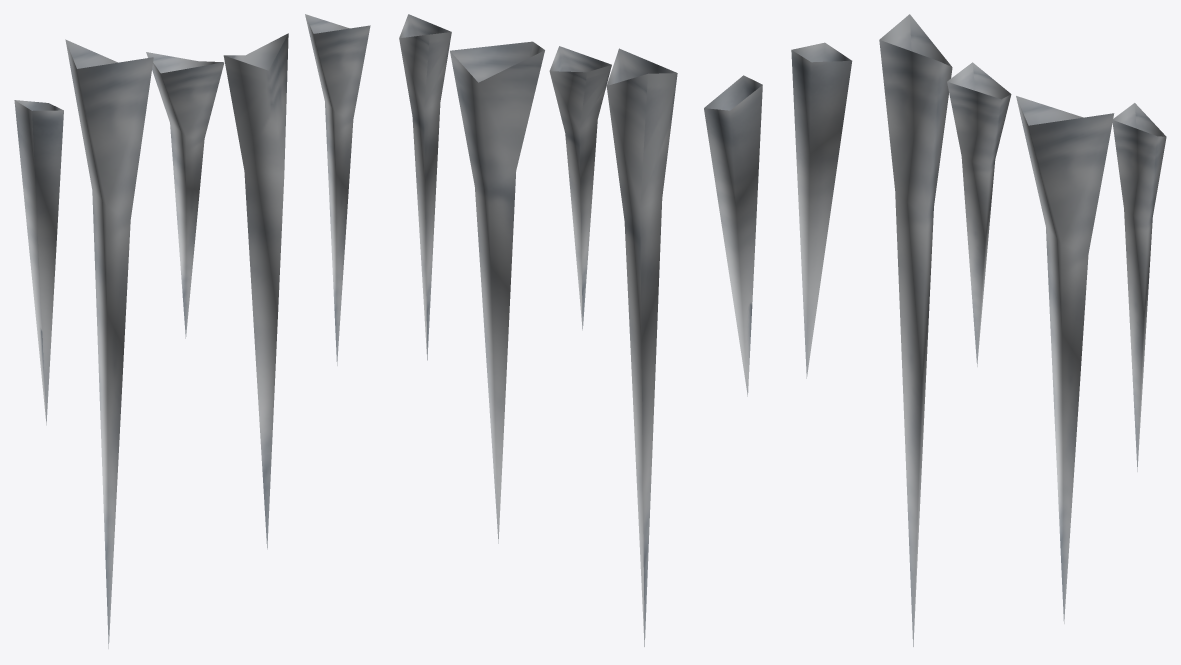
The model's file is bing1.fbx.
3 renders of one model, left to right at view 1: azimuth 30°, elevation 25°; view 2: azimuth 150°, elevation 25°; view 3: azimuth 330°, elevation 25°, orthographic. The views are drawn at different scales.
Visible parts, largest first — view 1: bing2; view 2: bing2; view 3: bing2.
Part boxes in pixels (<box>): bing2: <box>14,14,370,648</box>; bing2: <box>399,14,762,646</box>; bing2: <box>791,14,1166,646</box>.
Bounding box in the file's own units: 1.44 × 2.39 × 0.3409.
